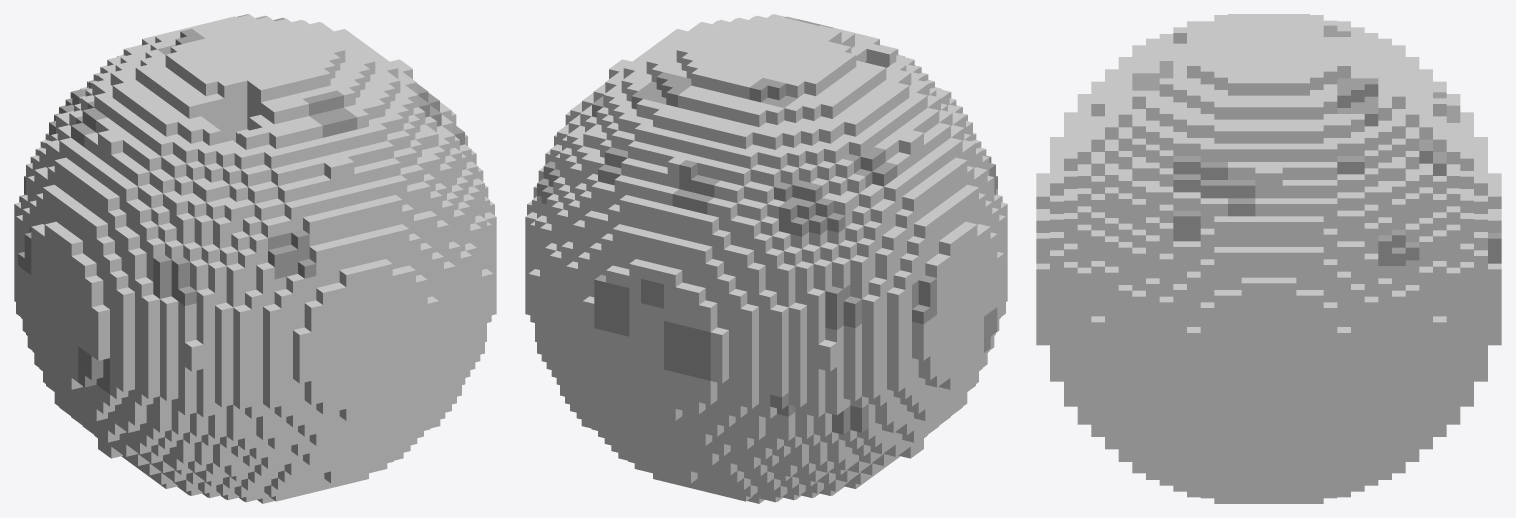
The model's file is moon.FBX.
3 views of the same model, side by side, from view 1: azimuth 30°, elevation 25°; view 2: azimuth 150°, elevation 25°; view 3: azimuth 270°, elevation 25° (orthographic). The views are drawn at different scales.
Visible parts, largest first — view 1: default; view 2: default; view 3: default.
Part boxes in pixels (x1=…): default: x1=14, y1=14, x2=496, y2=503; default: x1=525, y1=14, x2=1007, y2=503; default: x1=1036, y1=14, x2=1501, y2=503.
Bounding box in the file's own units: 34 × 34 × 33.
Materials: 1 (1 with a texture image).
